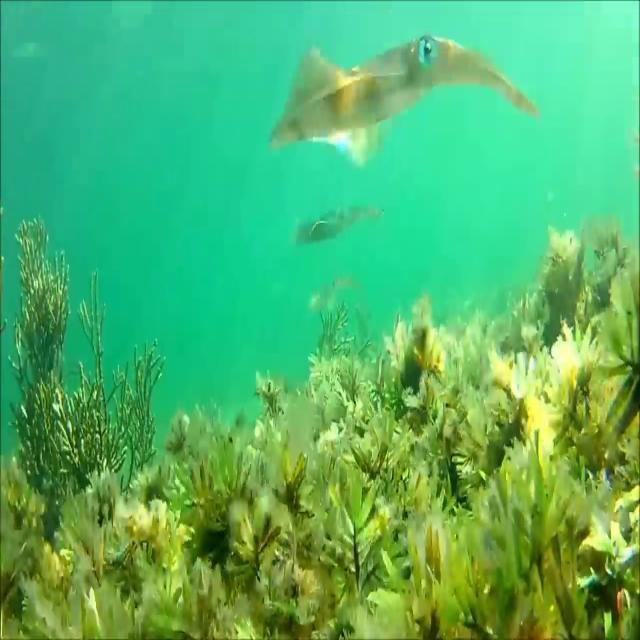squid: (268, 32, 538, 150)
